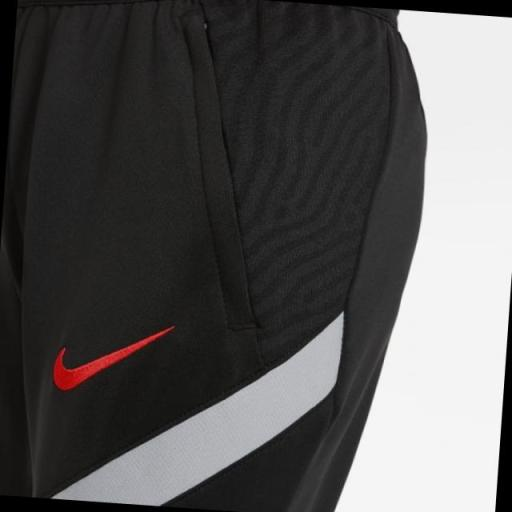Nike: (38, 320, 183, 398)
